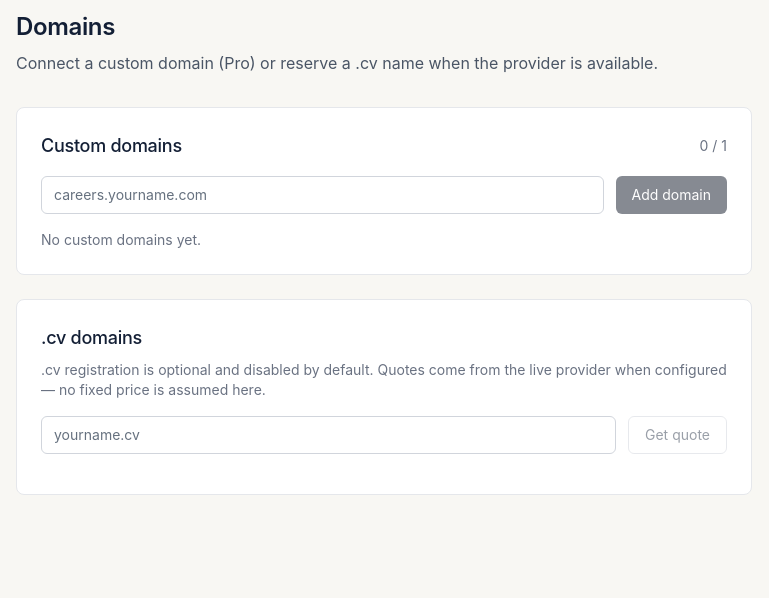
Domains page: provider-accurate verification UI › 9. quota becomes available after a failed provisioning (0/1 used, add enabled)
Expected: the text "0 / 1" is shown, [700, 136, 727, 156]
Type "retry-new.example.io" into the field with placeholder "careers.yourname.com". click: [322, 195]
box: [41, 176, 604, 214]
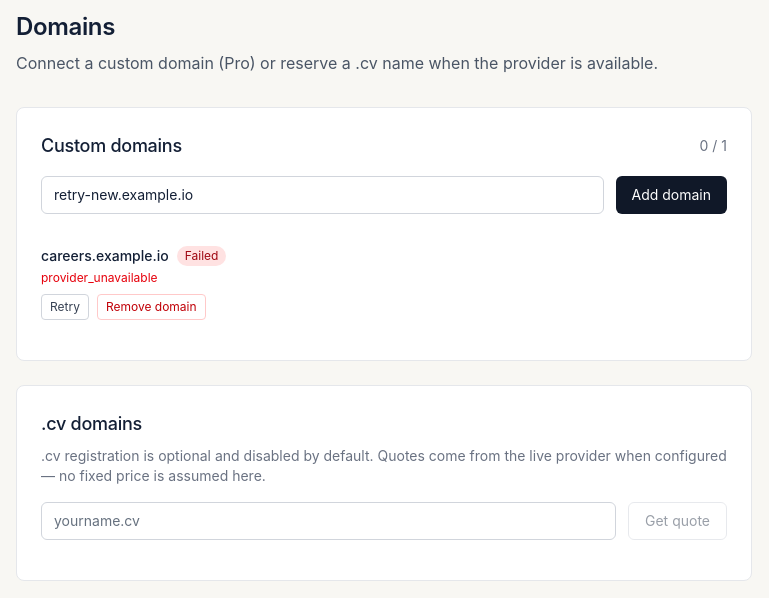
Result: the button "Add domain" is enabled at [616, 176, 727, 214]
